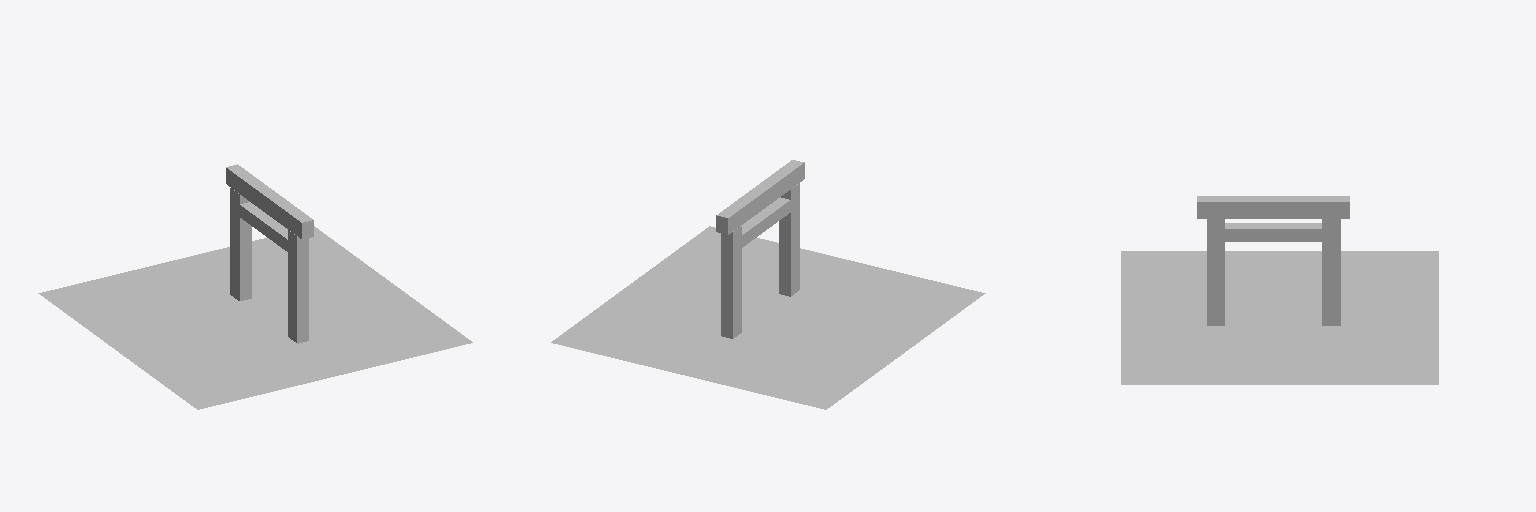
File: tori.obj
3 views of the same model, side by side, from view 1: azimuth 30°, elevation 25°; view 2: azimuth 150°, elevation 25°; view 3: azimuth 270°, elevation 25° (orthographic).
Parts seen in each view (by area): view 1: Plane, Cube.001, Cube.002, Cube, Cube.003; view 2: Plane, Cube.001, Cube, Cube.002, Cube.003; view 3: Plane, Cube.001, Cube, Cube.002, Cube.003.
Boxes of the visible parts, x1,y1,x2,y2 form: Plane: [38, 226, 472, 409]; Cube.001: [226, 164, 313, 239]; Cube.002: [288, 230, 308, 343]; Cube: [230, 188, 251, 300]; Cube.003: [240, 202, 287, 251]; Plane: [551, 226, 985, 409]; Cube.001: [716, 160, 804, 234]; Cube: [721, 225, 741, 338]; Cube.002: [779, 183, 799, 296]; Cube.003: [742, 197, 790, 247]; Plane: [1121, 251, 1438, 384]; Cube.001: [1197, 196, 1349, 218]; Cube: [1322, 219, 1340, 325]; Cube.002: [1207, 219, 1224, 325]; Cube.003: [1225, 223, 1321, 241].
Size of the model in its own units: 13.8 by 5.93 by 13.8.